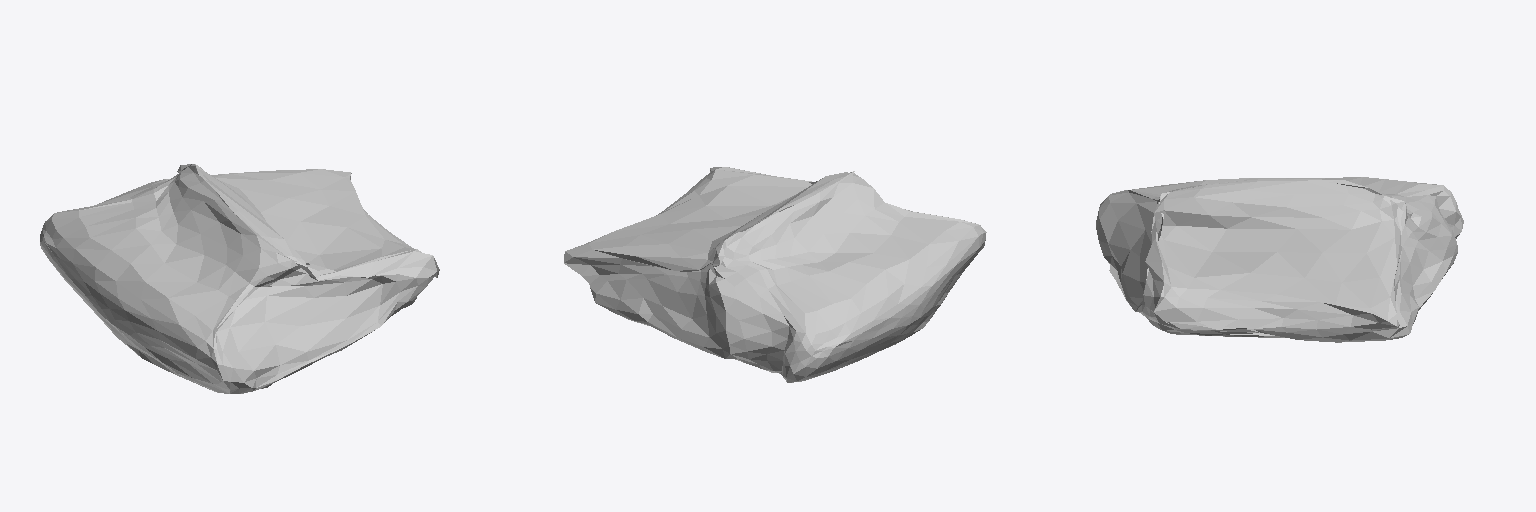
The model's file is video3_166.obj.
The picture shows the model from 3 angles: view 1: azimuth 30°, elevation 25°; view 2: azimuth 150°, elevation 25°; view 3: azimuth 270°, elevation 25°; orthographic projection.
Bounding box in the file's own units: 0.9382 × 0.3833 × 1.